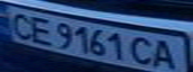1: (103, 30, 130, 61), (69, 24, 90, 54)
6: (87, 27, 109, 57)
9: (51, 20, 75, 51)
A: (148, 37, 184, 71)
C: (127, 34, 160, 68), (3, 9, 39, 40)
E: (24, 13, 57, 46)
